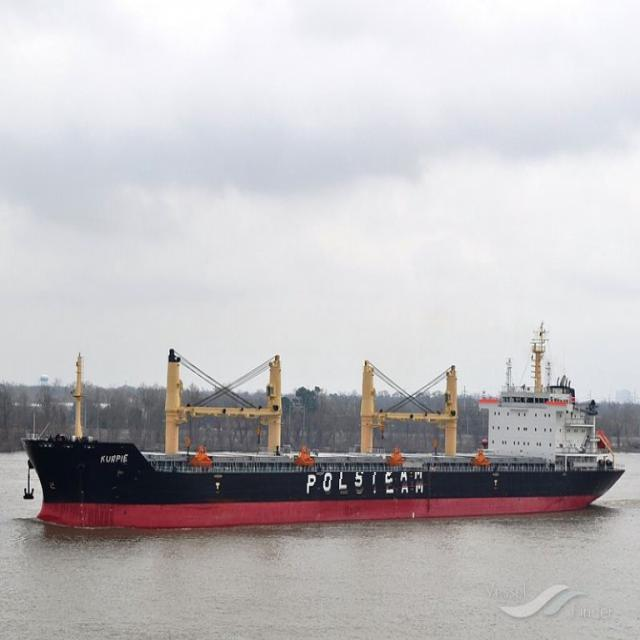OCR: (302, 472, 430, 500), (96, 448, 137, 469)
